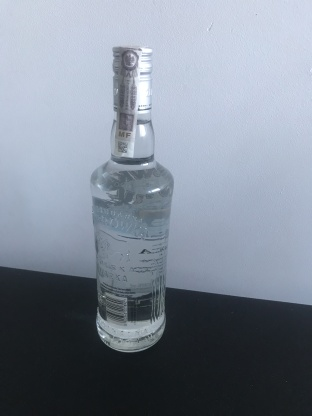nakretka: (109, 42, 155, 116)
